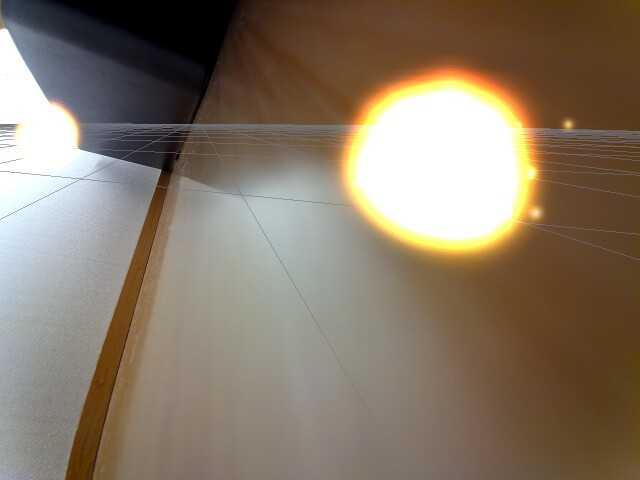firebig: (314, 50, 564, 271)
